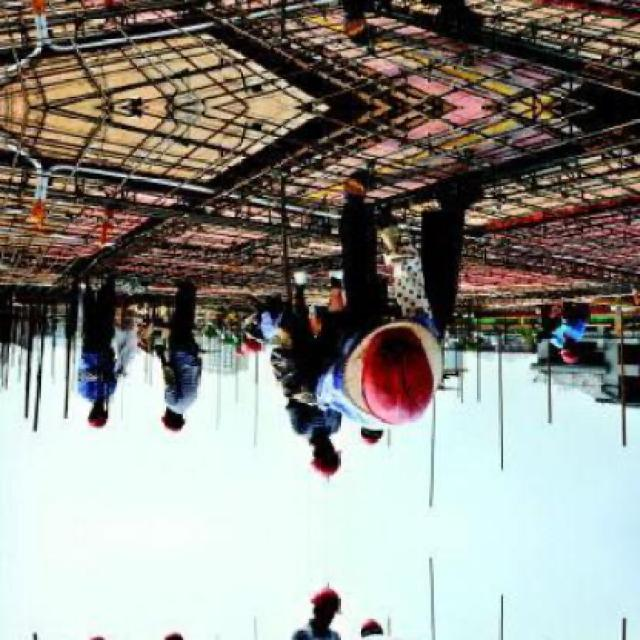con casco: (312, 306, 468, 436), (297, 411, 372, 480), (64, 376, 126, 432), (139, 389, 191, 445)
